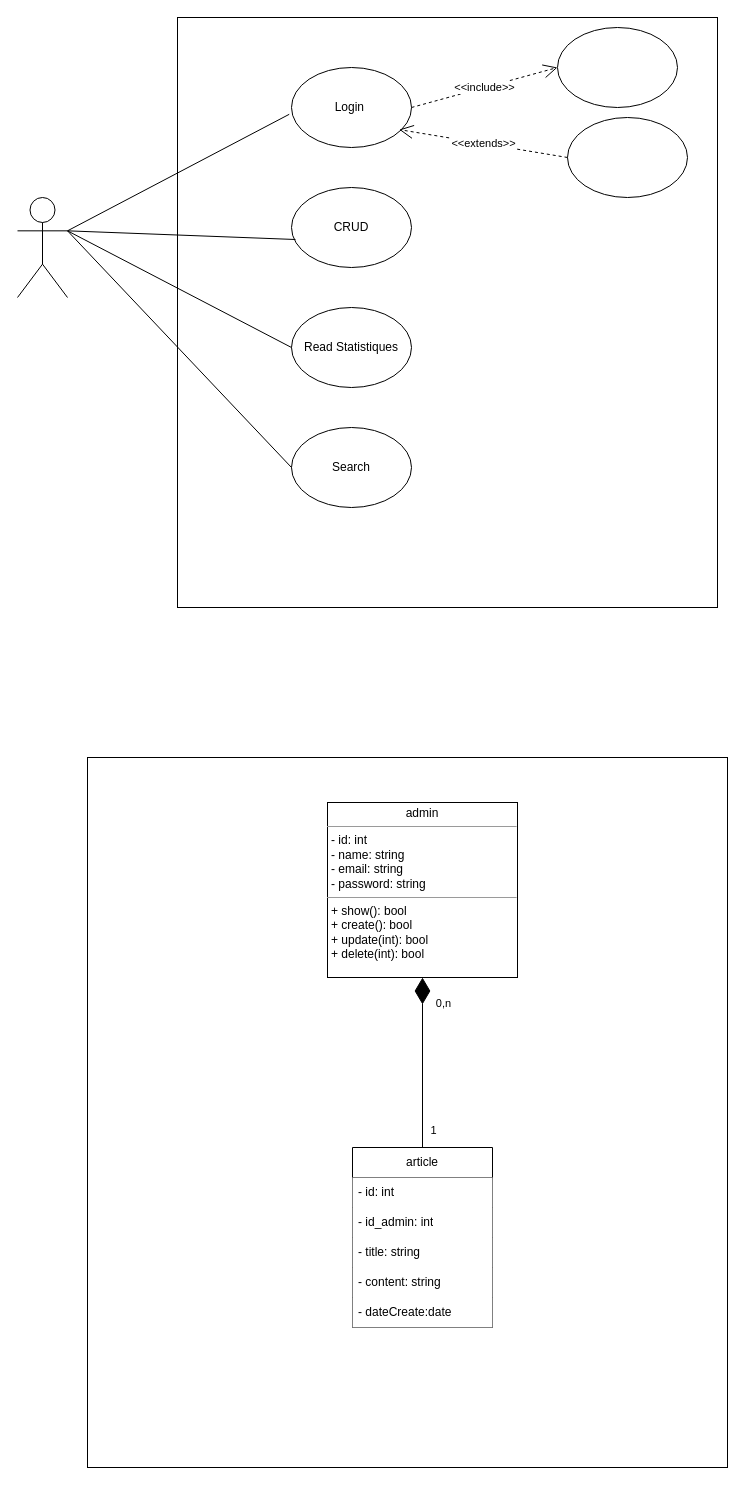
The diagram is 745 pixels wide and 1485 high, and some of its shapes have lost their labels. Here are the shapes that lost their labels. From the top down, the centre of each, then its label:
At (617,67): "Verify email and password".
At (627,157): "Error email or password".
At (42,247): "Admin".
